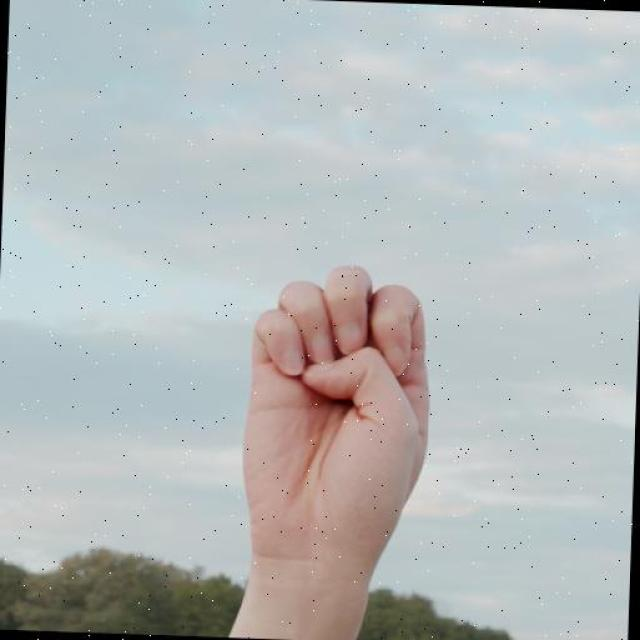E: (235, 258, 439, 573)
